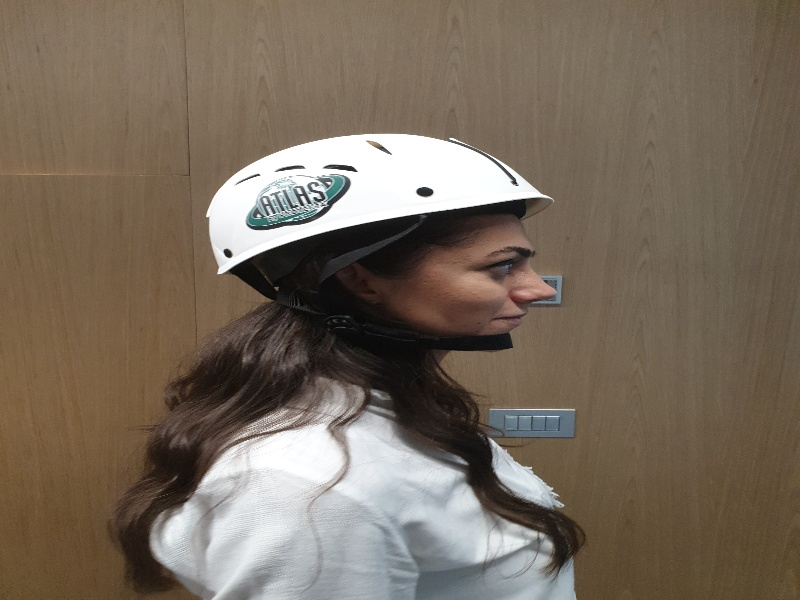Baret: (207, 134, 558, 273)
